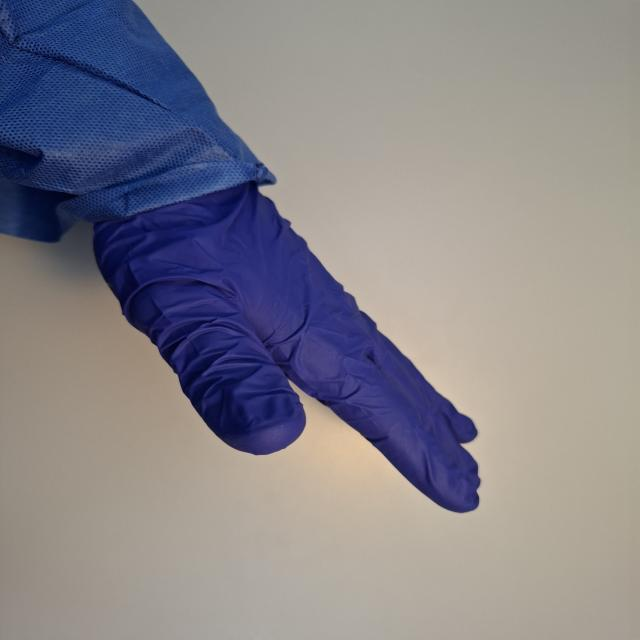glove_on: (85, 164, 485, 515)
